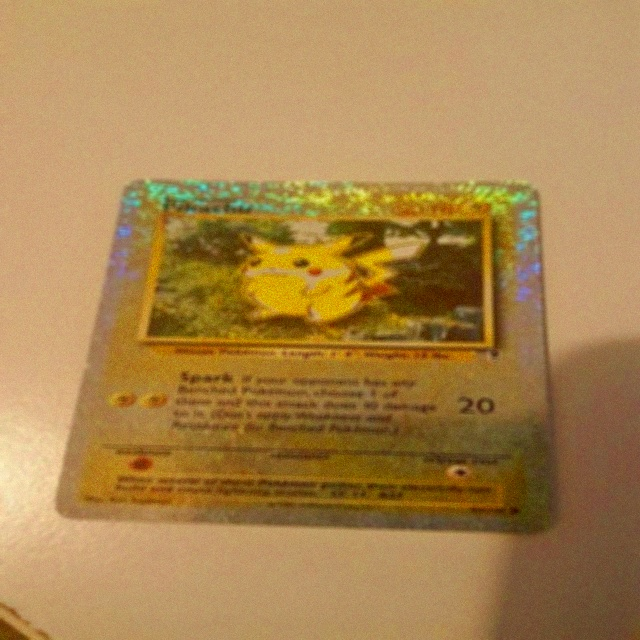card: (52, 179, 553, 534)
